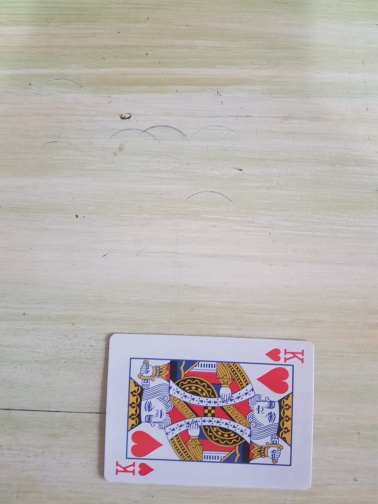king: (101, 330, 315, 491)
